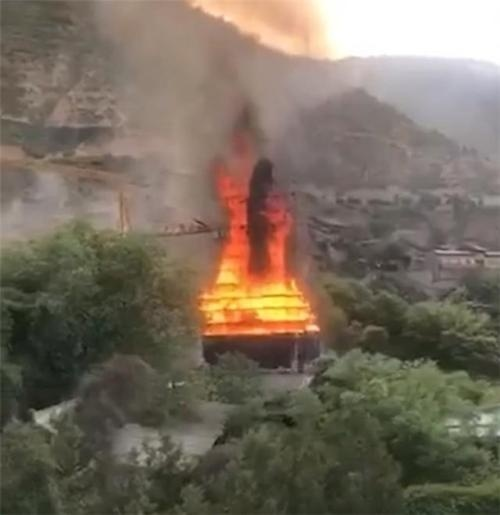fire: (201, 127, 318, 327)
